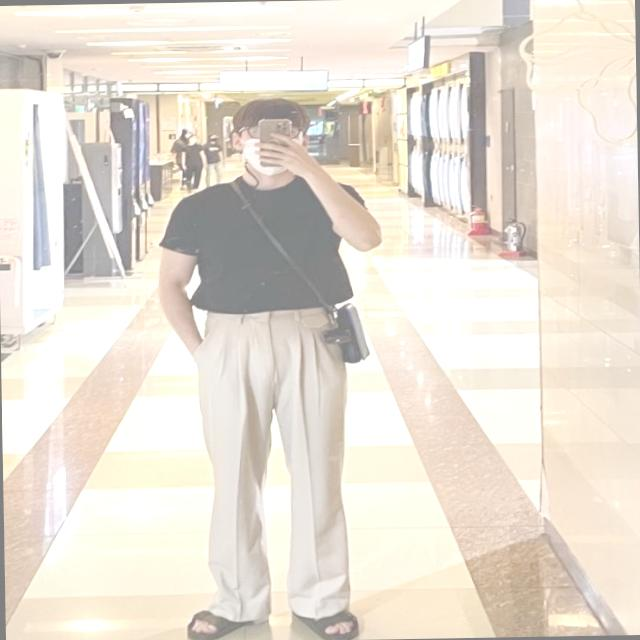shortsleeve: (155, 170, 363, 316)
slacks: (186, 302, 354, 622)
